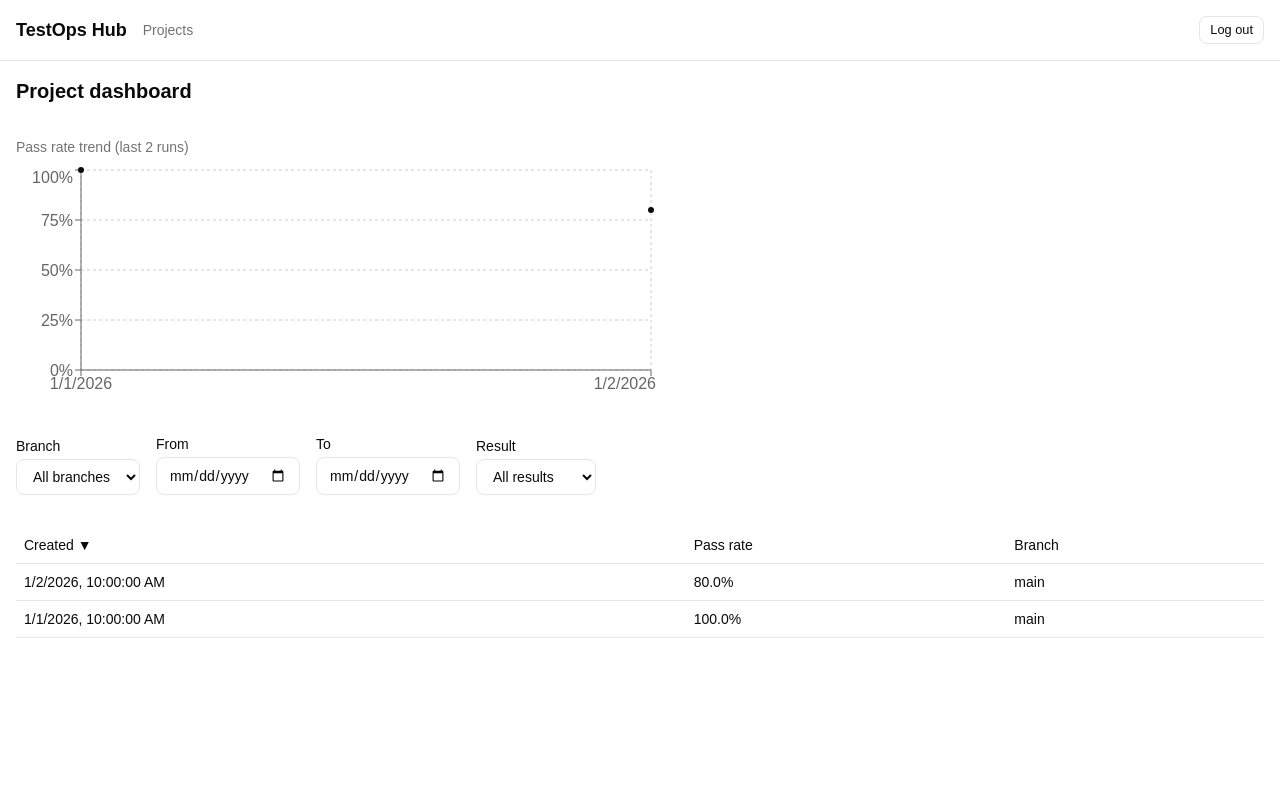
project dashboard: empty states › shows a message when filters produce no matching runs, without affecting the chart
This screenshot has width=1280, height=800.
Select "other-branch" in the dropdown labelled "Branch" at (78, 477), box x1=16 y1=459 x2=140 y2=495
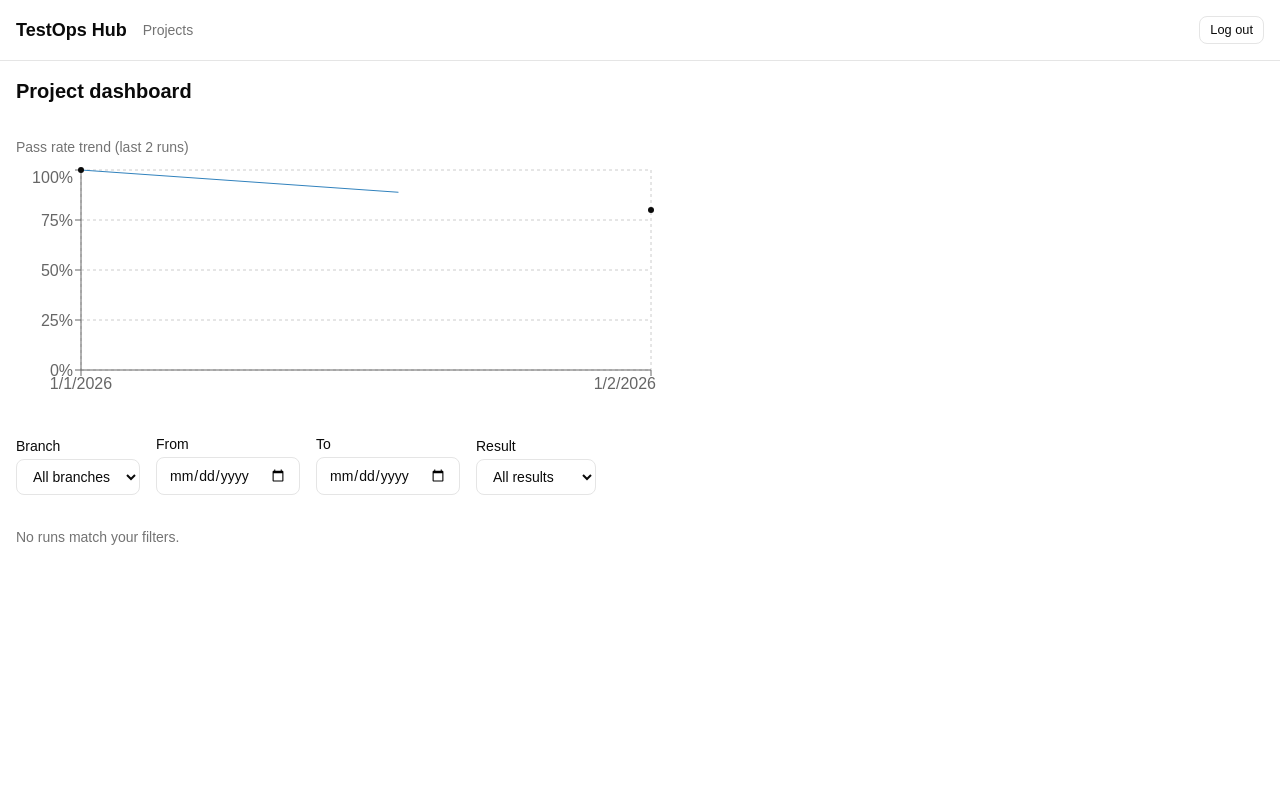
Expected: the text "No runs match your filters." is shown, x1=16 y1=529 x2=179 y2=545
